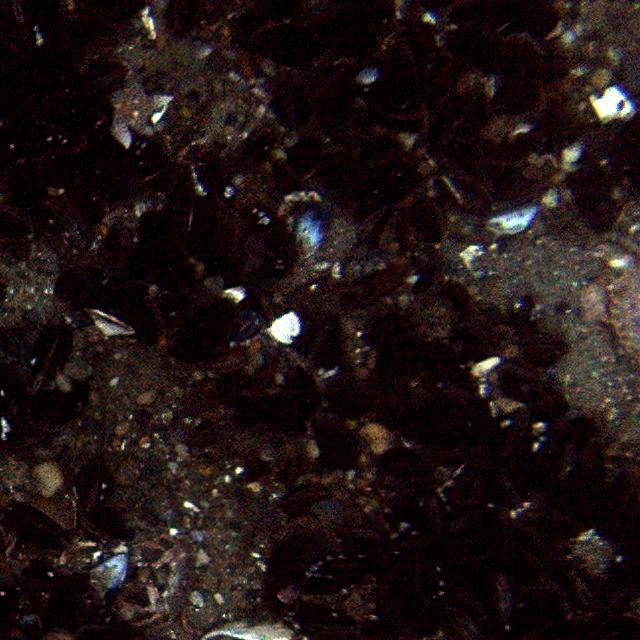crab: (594, 262, 640, 358)
